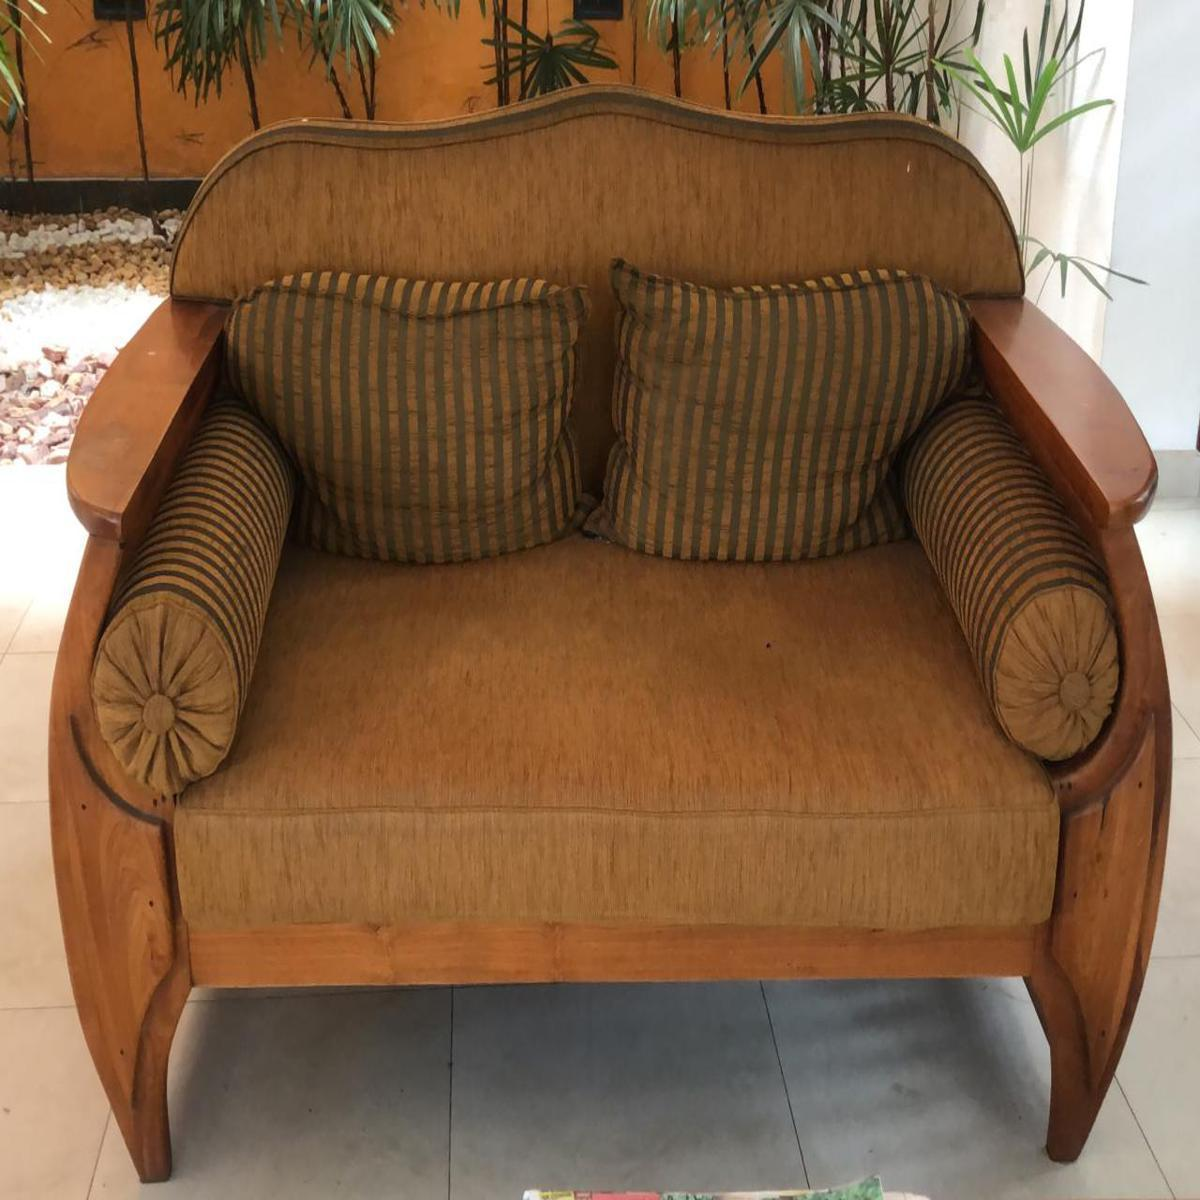Sofa: (53, 87, 1170, 1167)
